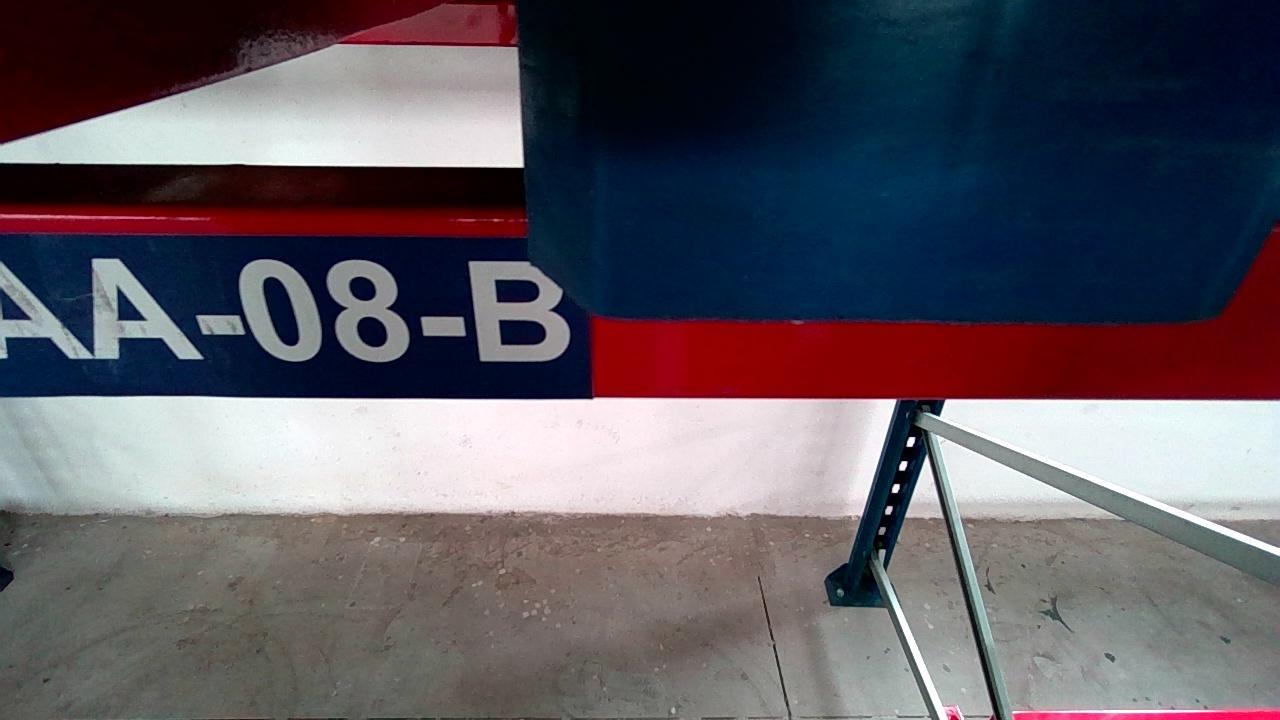h_rack: (4, 219, 1279, 399)
